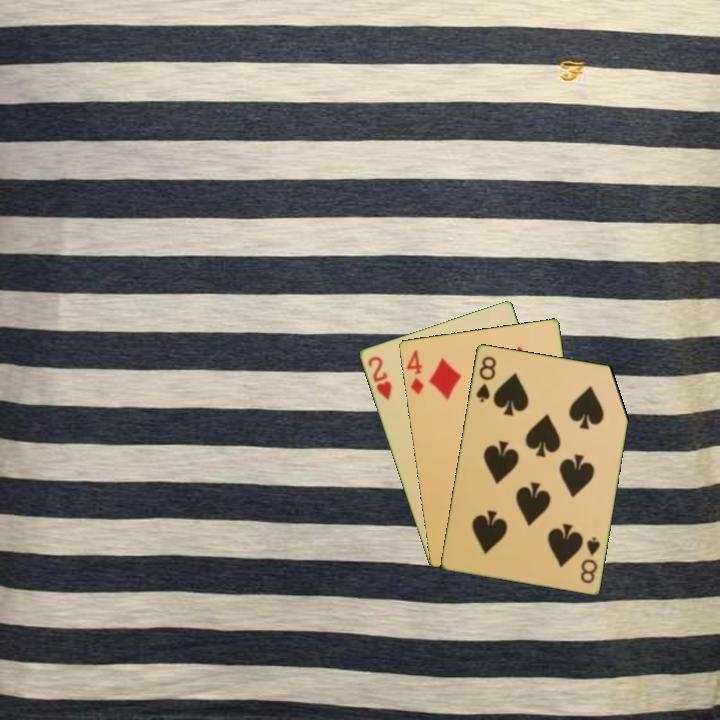2h: (364, 352, 394, 403)
4d: (403, 346, 426, 397)
8s: (472, 352, 499, 405), (577, 533, 603, 586)
